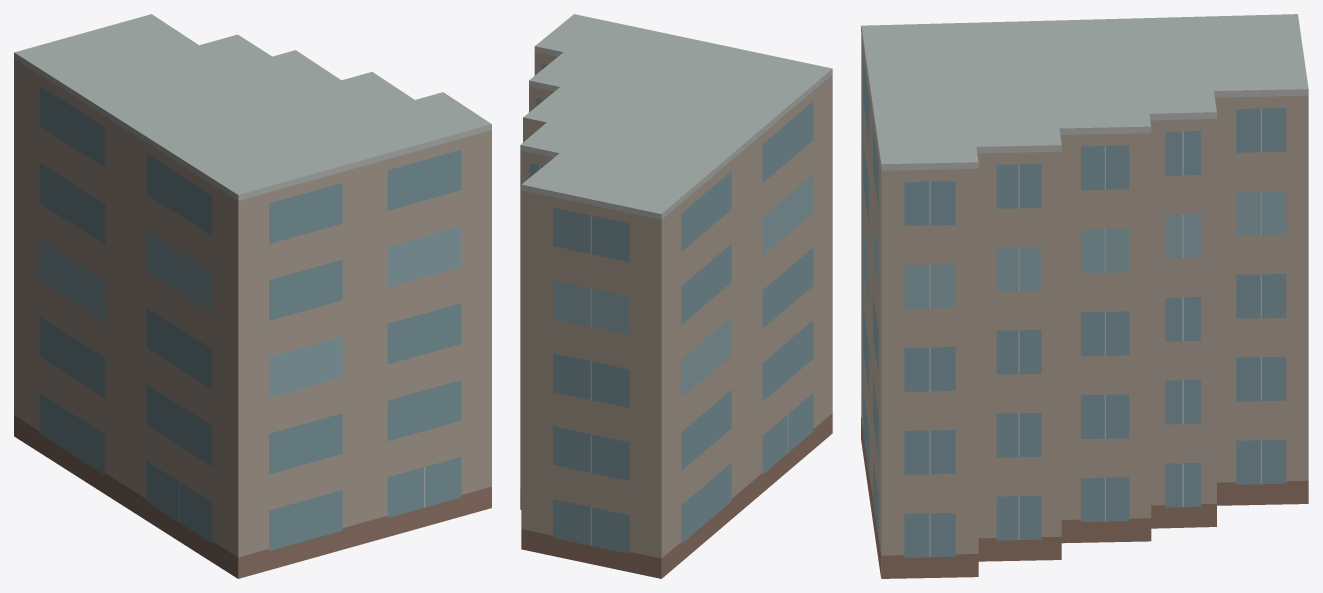
Rendered from survey-upis-32945232.glb.
3 renders of one model, left to right at view 1: azimuth 30°, elevation 25°; view 2: azimuth 150°, elevation 25°; view 3: azimuth 270°, elevation 25°, orthographic. The views are drawn at different scales.
Visible parts, largest first — view 1: survey-upis-32945232.tmp; view 2: survey-upis-32945232.tmp; view 3: survey-upis-32945232.tmp.
Boxes of the visible parts, x1,y1,x2,y2 form: survey-upis-32945232.tmp: [14, 14, 491, 578]; survey-upis-32945232.tmp: [520, 14, 832, 578]; survey-upis-32945232.tmp: [861, 14, 1308, 578].
Bounding box in the file's own units: 12.05 × 15.5 × 15.17.
